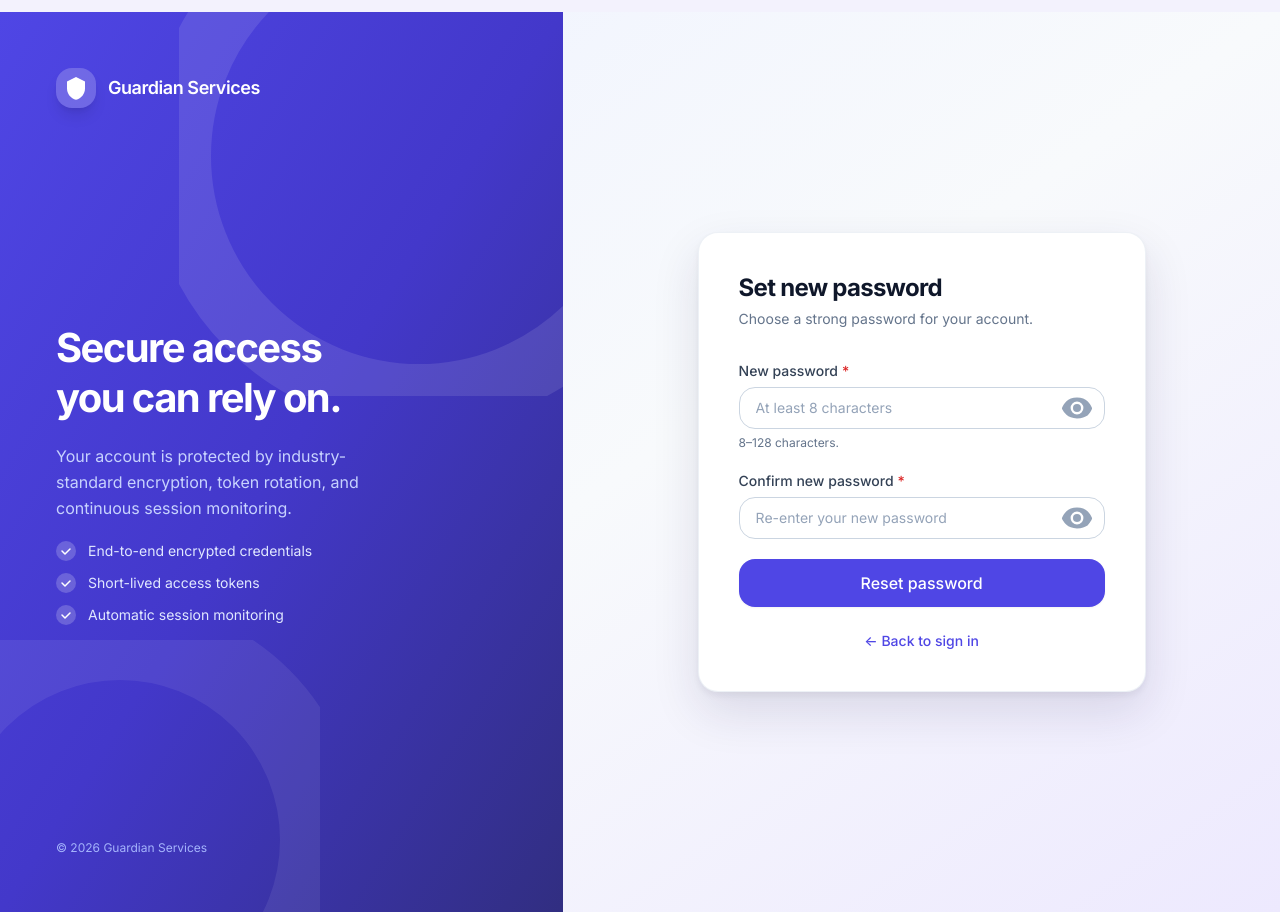
Test: ResetPasswordPage — valid token › shows validation error when passwords do not match
Type "Password1!" into the password field labelled "New password*" at (922, 408), box [739,387,1105,429]
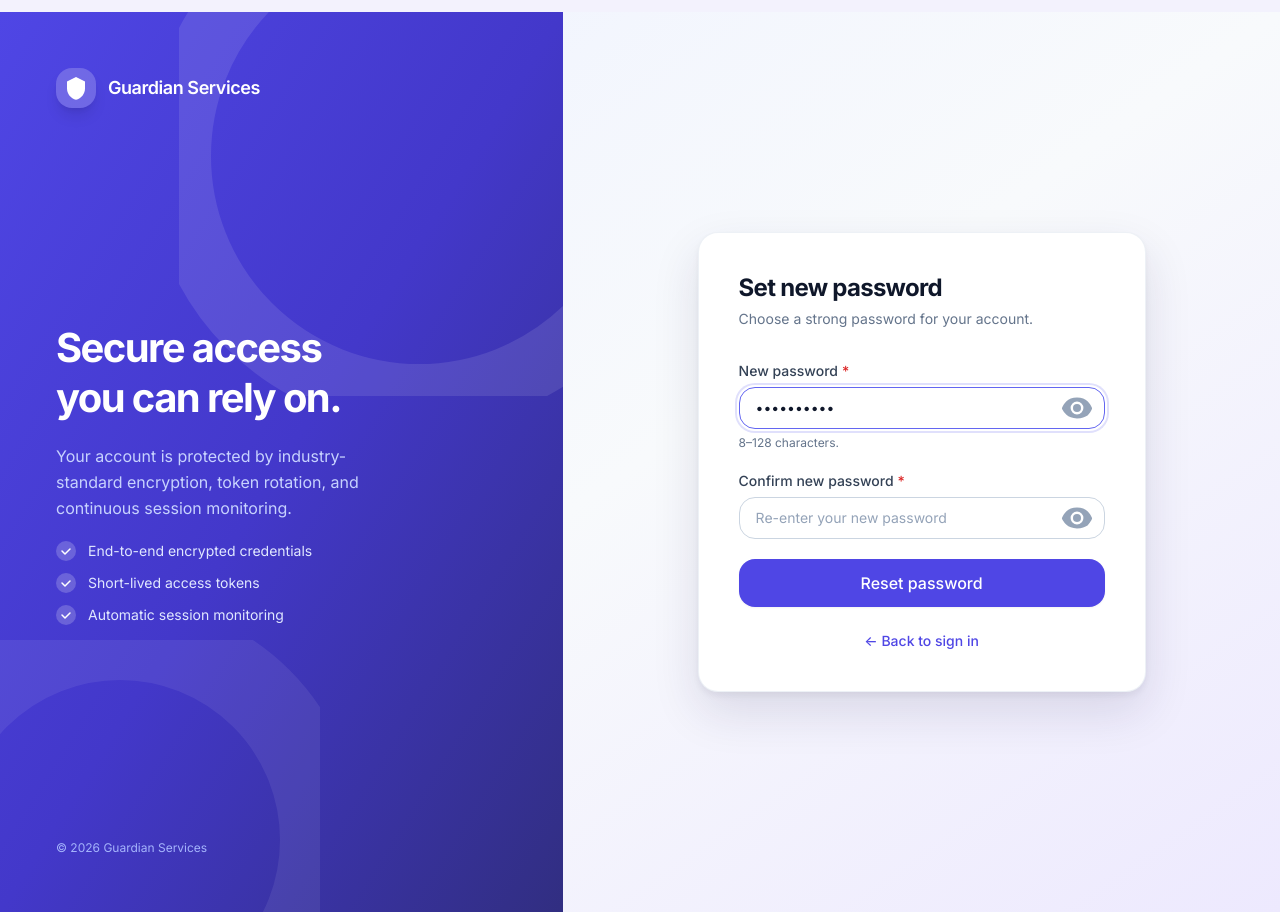
Type "Different1!" into the password field labelled "Confirm new password*" at (922, 518), box [739,497,1105,539]
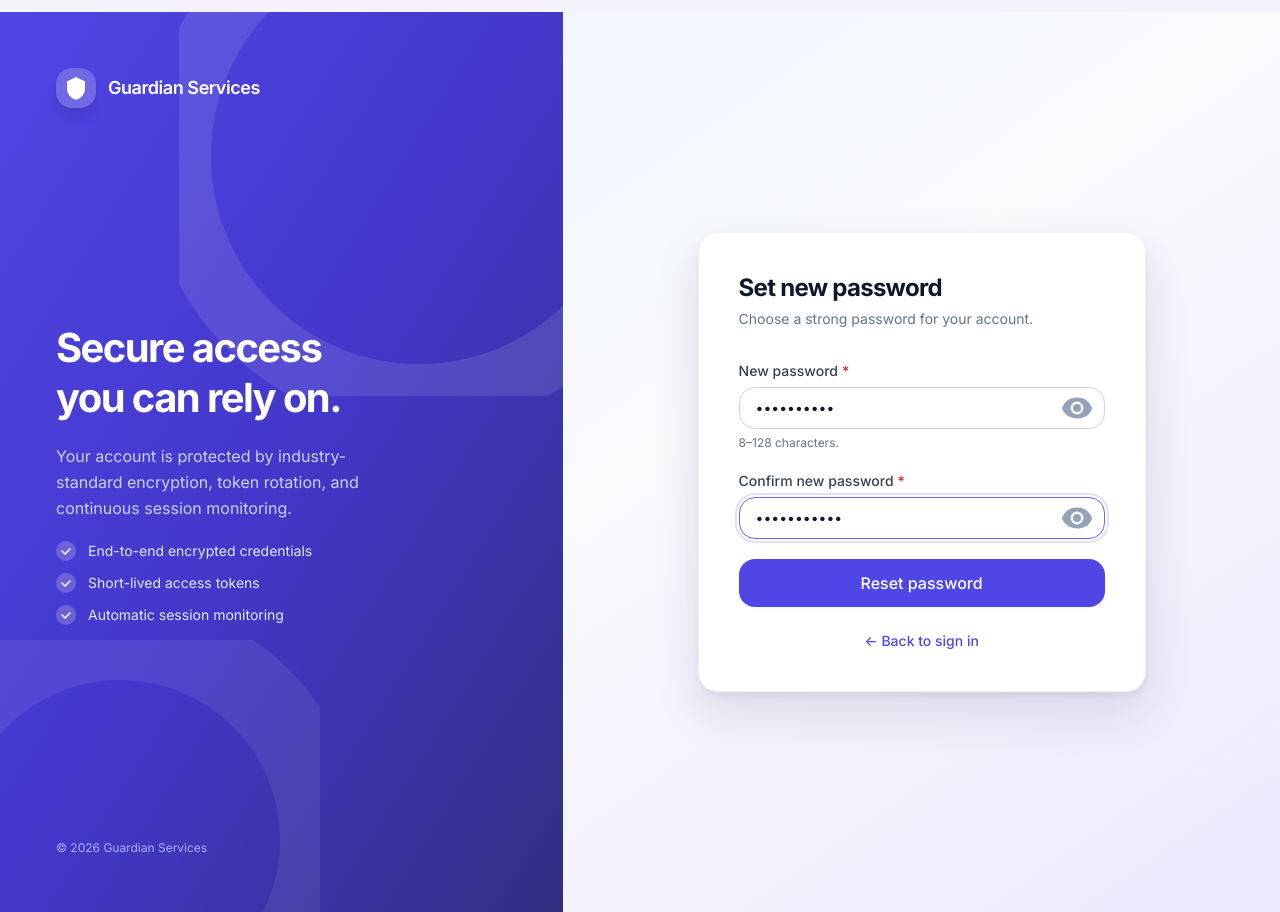
Click the button "Reset password" at (922, 583), box [739,559,1105,607]
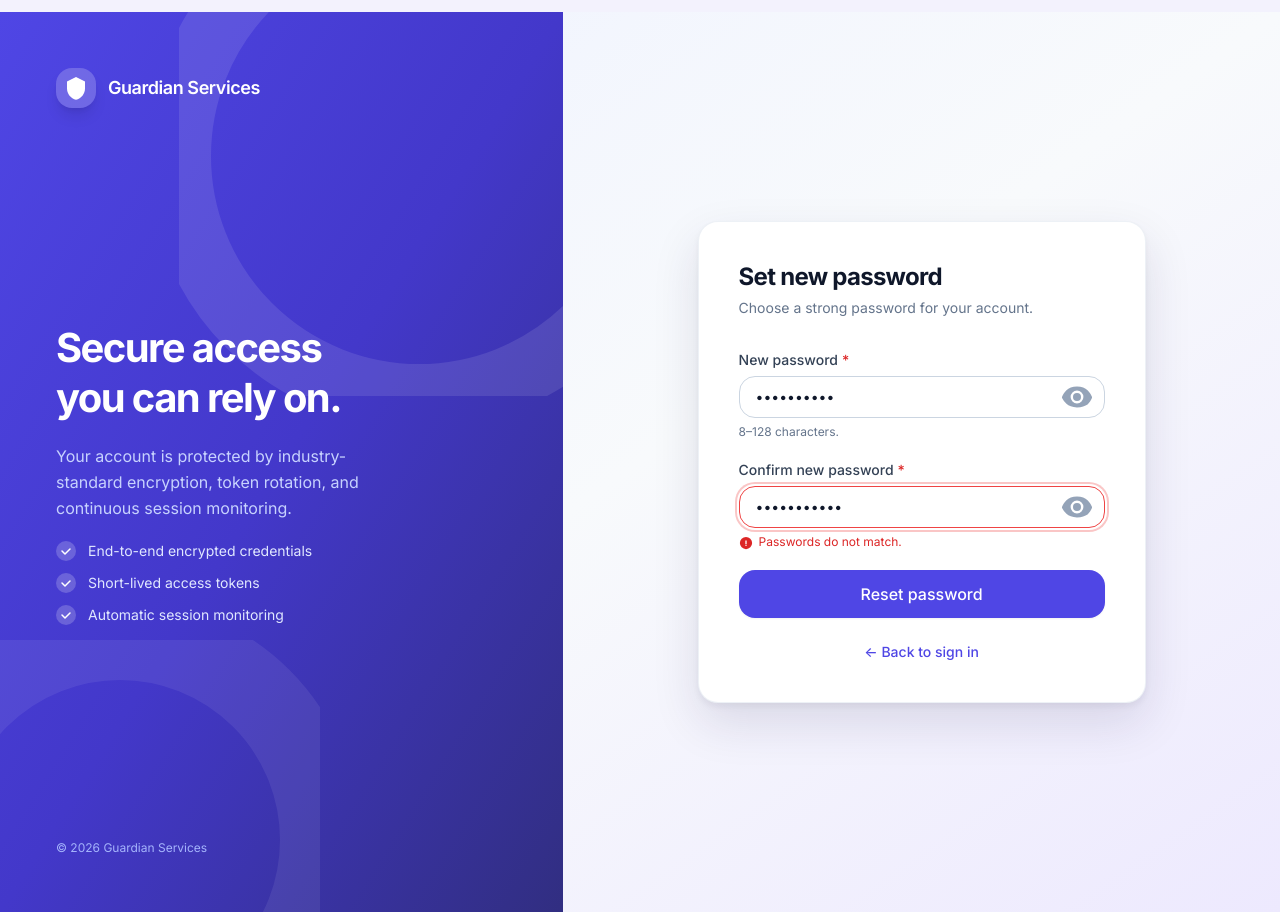
Check: the text "Passwords do not match." is shown, box [739,534,902,550]
